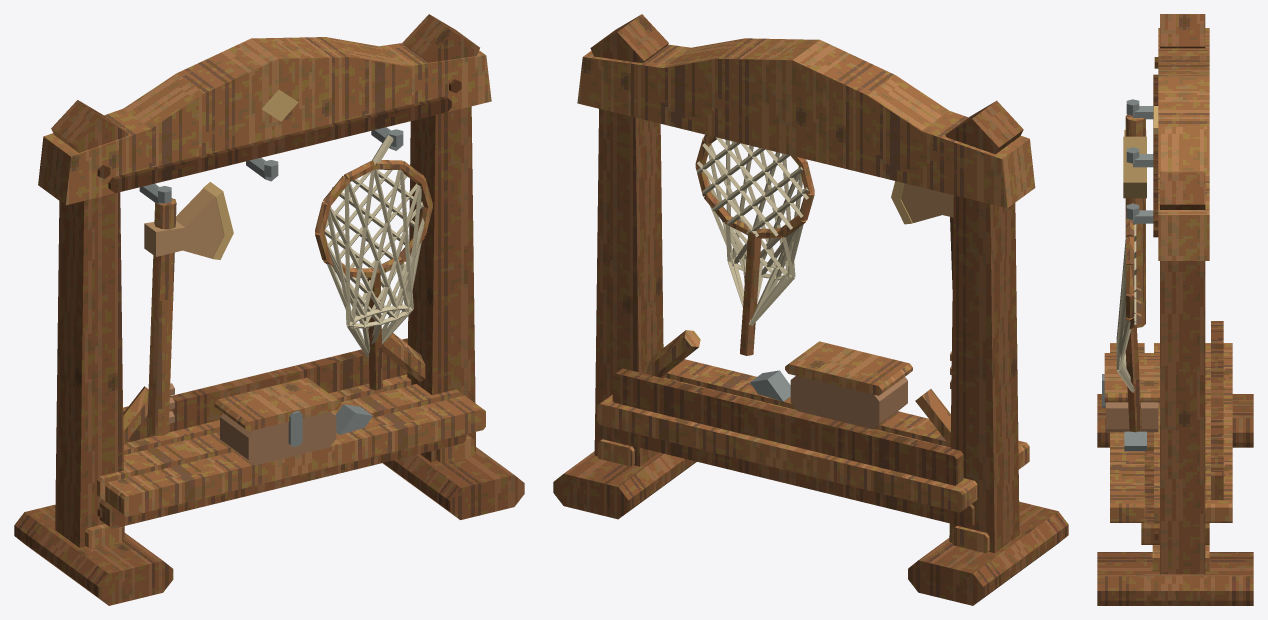
The model's file is holm_provisions_oldschool_v1.glb.
The picture shows the model from 3 angles, left to right: view 1: azimuth 30°, elevation 25°; view 2: azimuth 150°, elevation 25°; view 3: azimuth 270°, elevation 25°; orthographic projection. The views are drawn at different scales.
Visible parts, largest first — view 1: ProvisionsRack, ProvisionNet, ProvisionHatchet, ProvisionTinderbox; view 2: ProvisionsRack, ProvisionNet, ProvisionTinderbox, ProvisionHatchet; view 3: ProvisionsRack, ProvisionTinderbox, ProvisionNet, ProvisionHatchet.
Boxes of the visible parts, bbox=[...] form: ProvisionsRack: bbox=[14, 14, 524, 605]; ProvisionNet: bbox=[315, 135, 432, 390]; ProvisionHatchet: bbox=[144, 182, 233, 435]; ProvisionTinderbox: bbox=[214, 377, 372, 465]; ProvisionsRack: bbox=[553, 14, 1068, 605]; ProvisionNet: bbox=[695, 134, 814, 355]; ProvisionTinderbox: bbox=[750, 341, 912, 429]; ProvisionHatchet: bbox=[891, 181, 953, 388]; ProvisionsRack: bbox=[1097, 14, 1253, 605]; ProvisionTinderbox: bbox=[1102, 353, 1159, 451]; ProvisionNet: bbox=[1116, 203, 1141, 432]; ProvisionHatchet: bbox=[1123, 114, 1146, 327].
Size of the model in its own units: 1.6 by 1.7 by 0.55.
8 materials, 3 textured.
